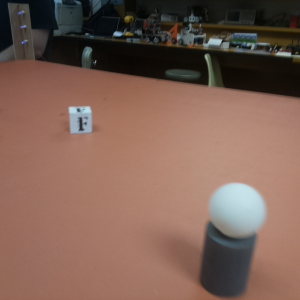blockF: (68, 105, 92, 135)
corner: (8, 4, 34, 61)
obstacle: (198, 183, 265, 298)
